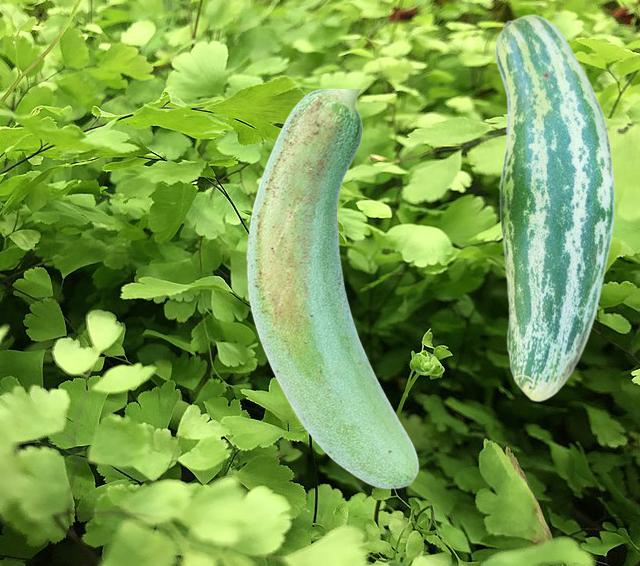cucumber: (246, 89, 418, 488), (494, 13, 614, 401)
